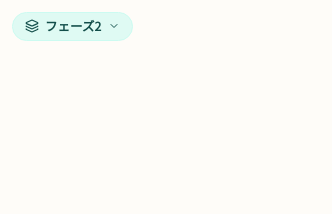
it: PhaseSwitcher (GAP-157) › フェーズ一覧から選ぶと全体切替 (localStorage + イベント)、確定選択はピルに明示
Click the button with aria-label "フェーズ切替（表示中: フェーズ2）".
click(72, 26)  # box [12,12,133,41]
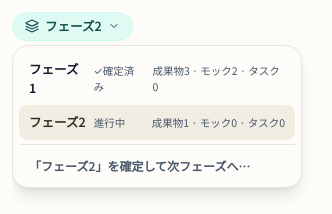
Check: the text "成果物3 · モック2 · タスク0" is shown, box [152,63,285,94]
Click the menu item "フェーズ1 ✓確定済み 成果物3 · モック2 · タスク0".
click(157, 79)  # box [19,52,295,105]
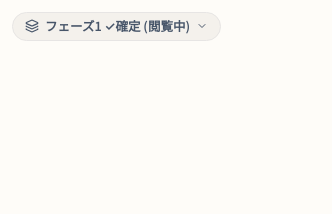
Check: the button with aria-label "表示中: フェーズ1" shows "✓確定 (閲覧中)", box [12,12,221,41]
